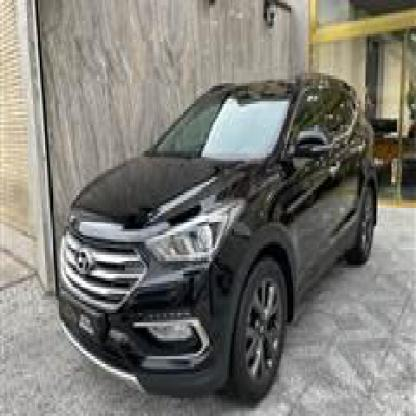car: (43, 81, 385, 395)
